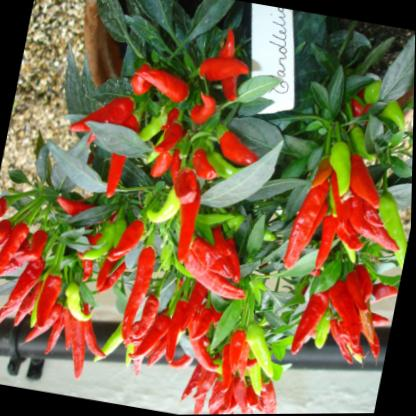--: (179, 308, 297, 415), (149, 154, 211, 278), (276, 169, 336, 278), (112, 235, 163, 361), (285, 274, 336, 364), (127, 58, 195, 117), (29, 249, 72, 338), (0, 211, 31, 298)
